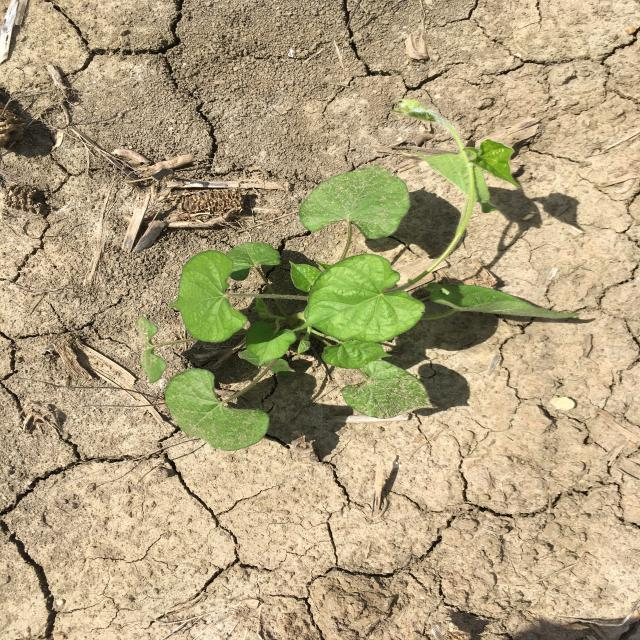MorningGlory: (135, 98, 580, 452)
